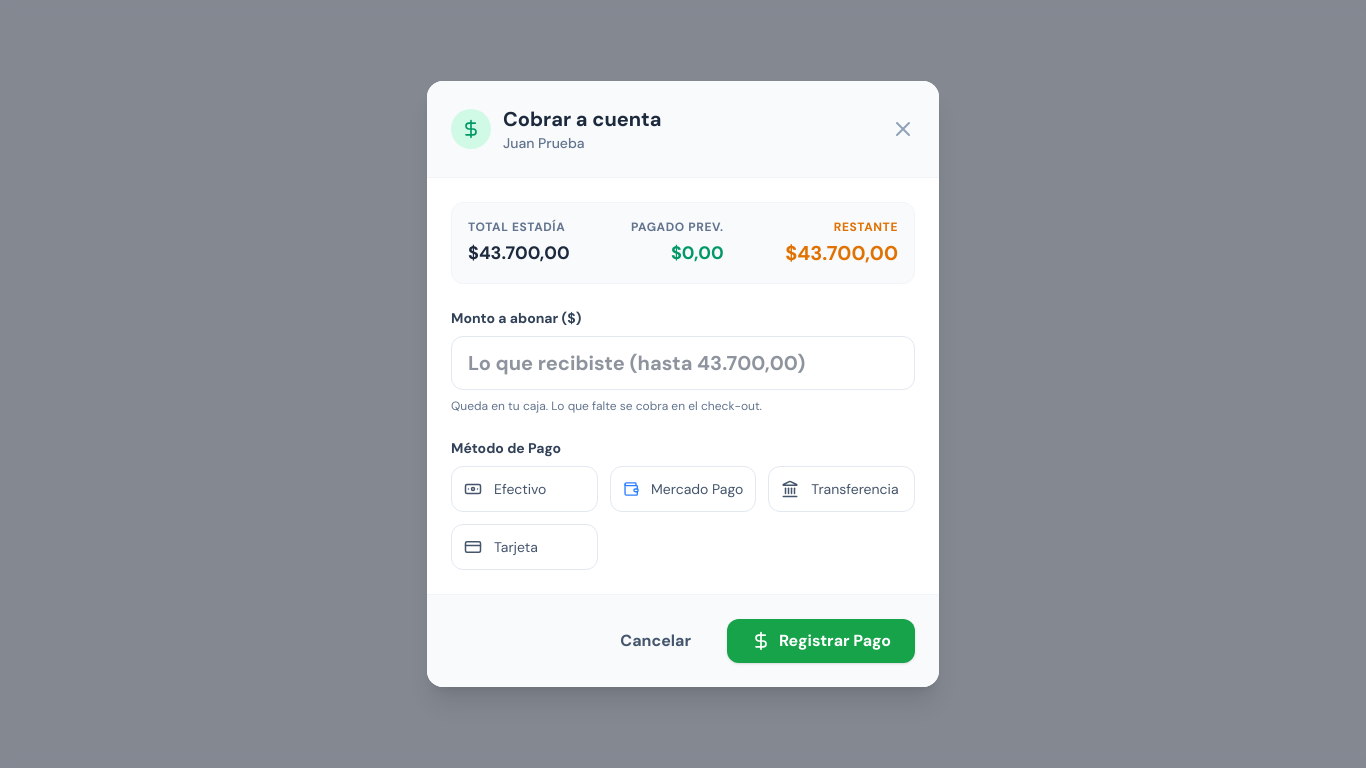
Test: PaymentModal: cobro a cuenta antes del check-out › con la caja cerrada (P0003) avisa «Caja cerrada» con el enlace a Caja
The width and height of the screenshot is (1366, 768).
Type "20.000" into the field labelled "Monto a abonar ($)" at (683, 363), box [451, 336, 915, 390]
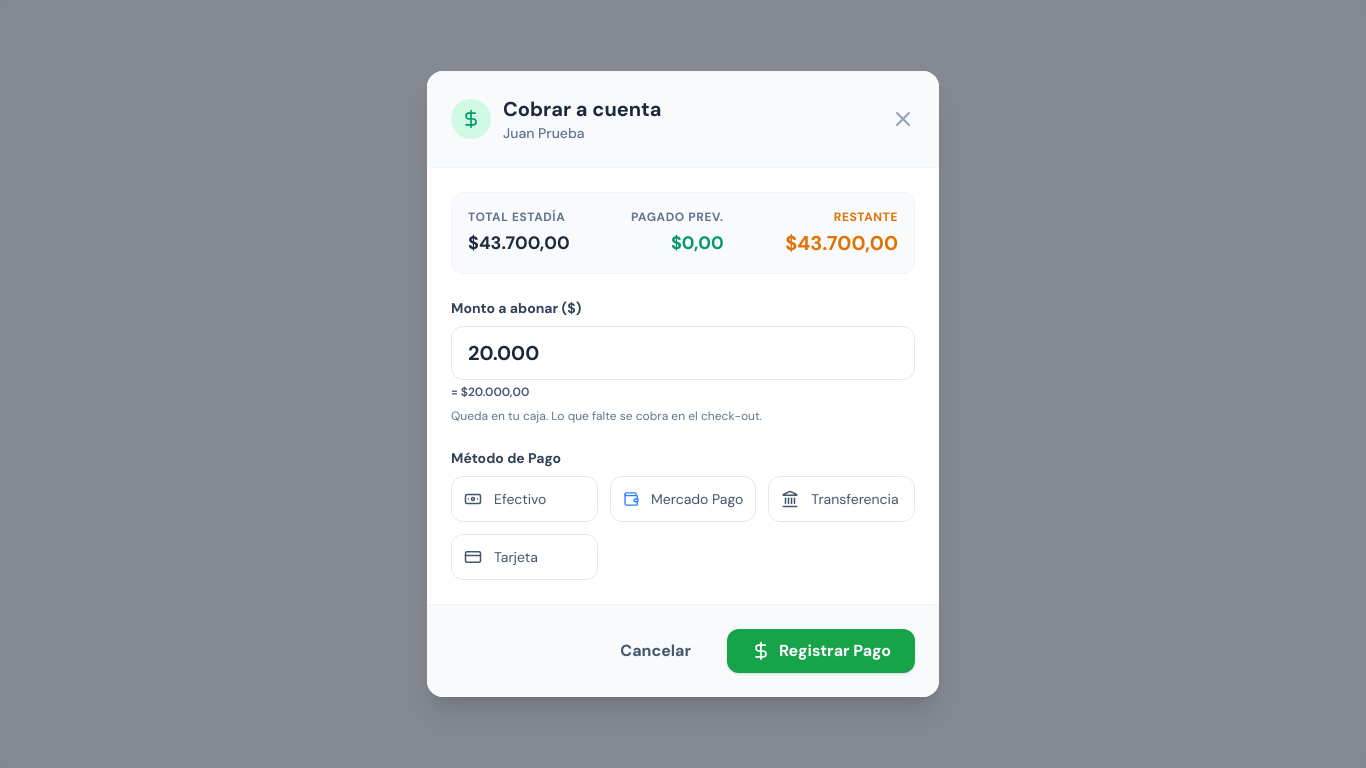
Click the radio button labelled "Efectivo" at (524, 499), box [451, 476, 598, 522]
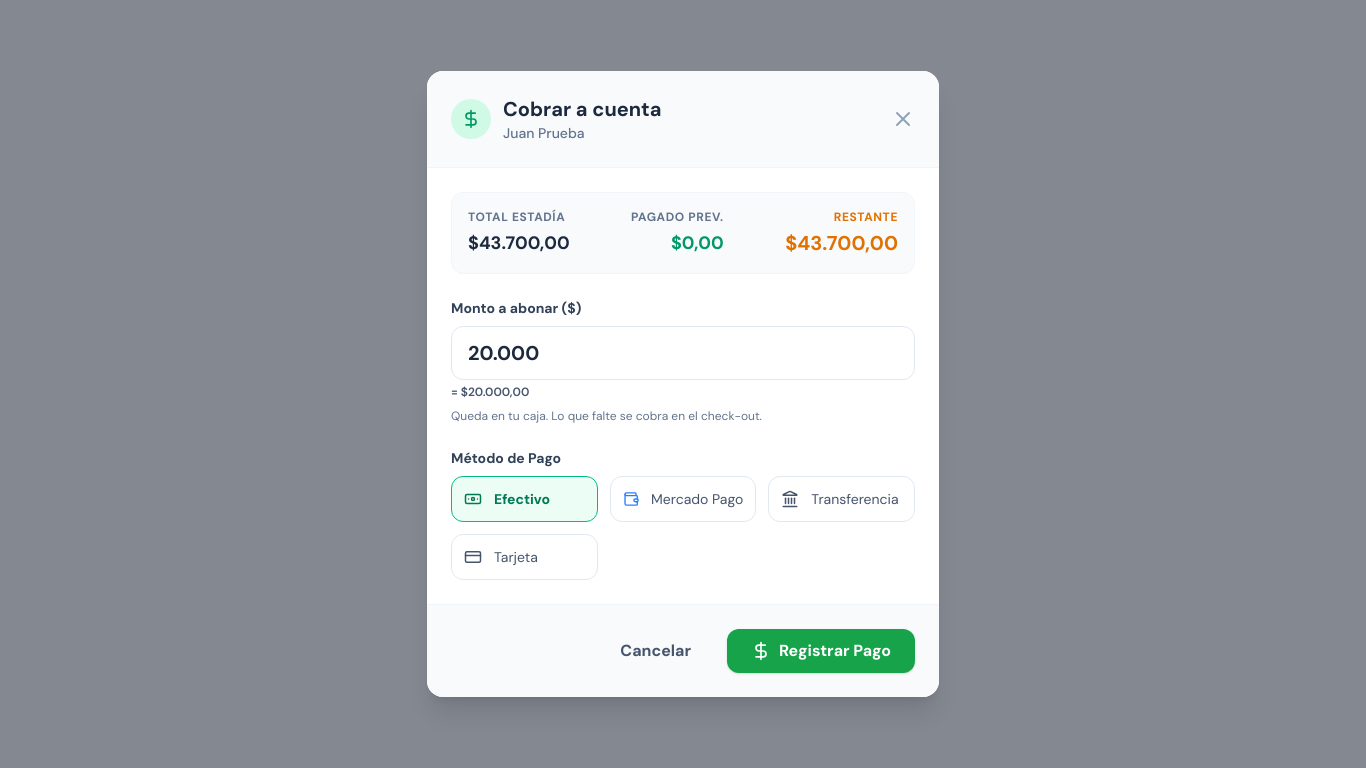
Click the button "Registrar Pago" at (821, 651), box [727, 629, 915, 673]
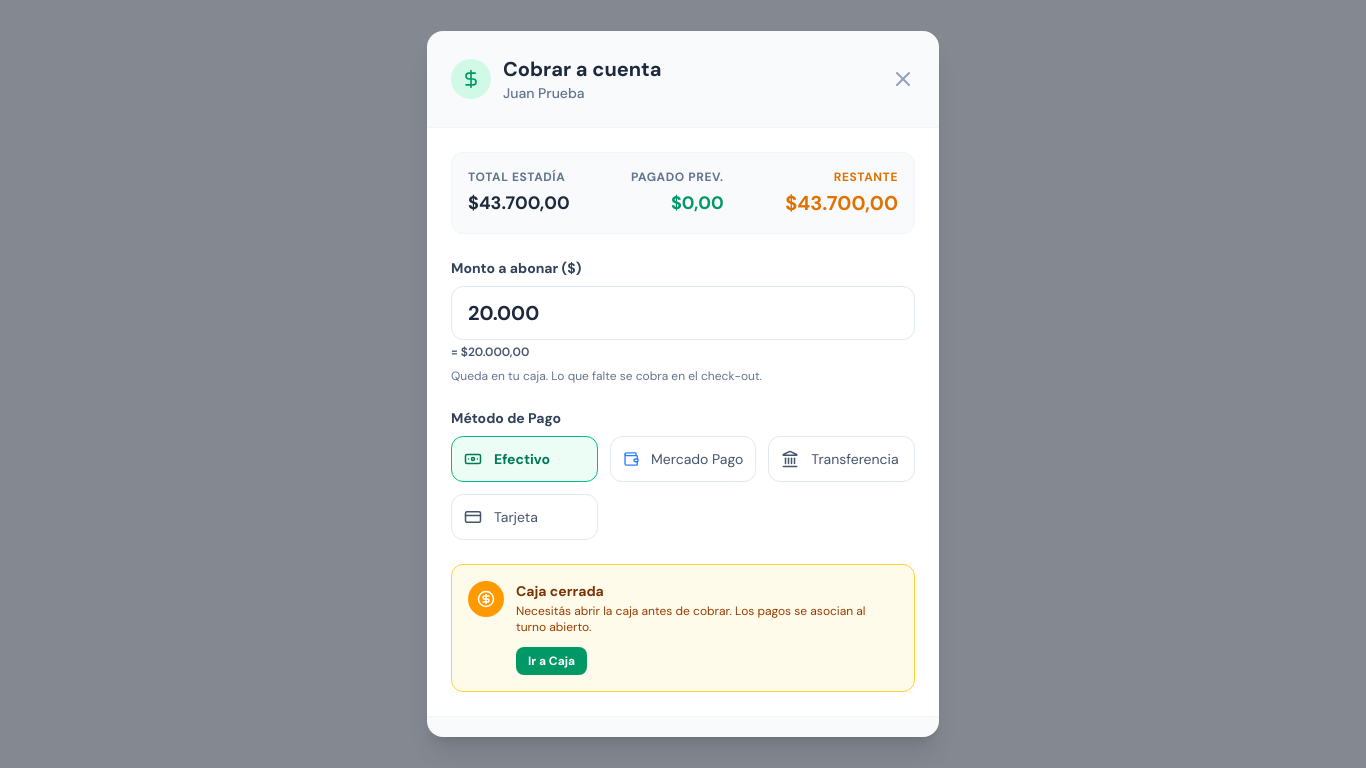
Now the text "Caja cerrada" is shown, box [516, 582, 604, 600]
Now the link "Ir a Caja" is shown, box [516, 647, 587, 675]
